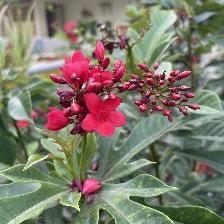jatropha: (80, 93, 130, 139)
